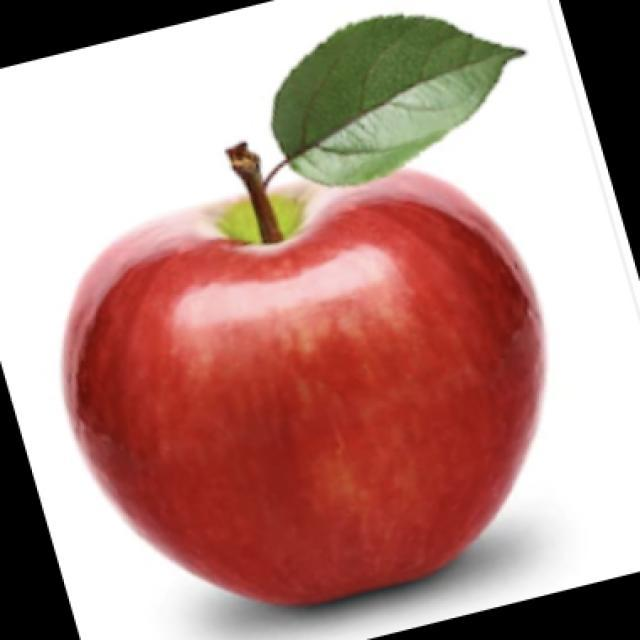Fresh Apple: (87, 165, 518, 640)
